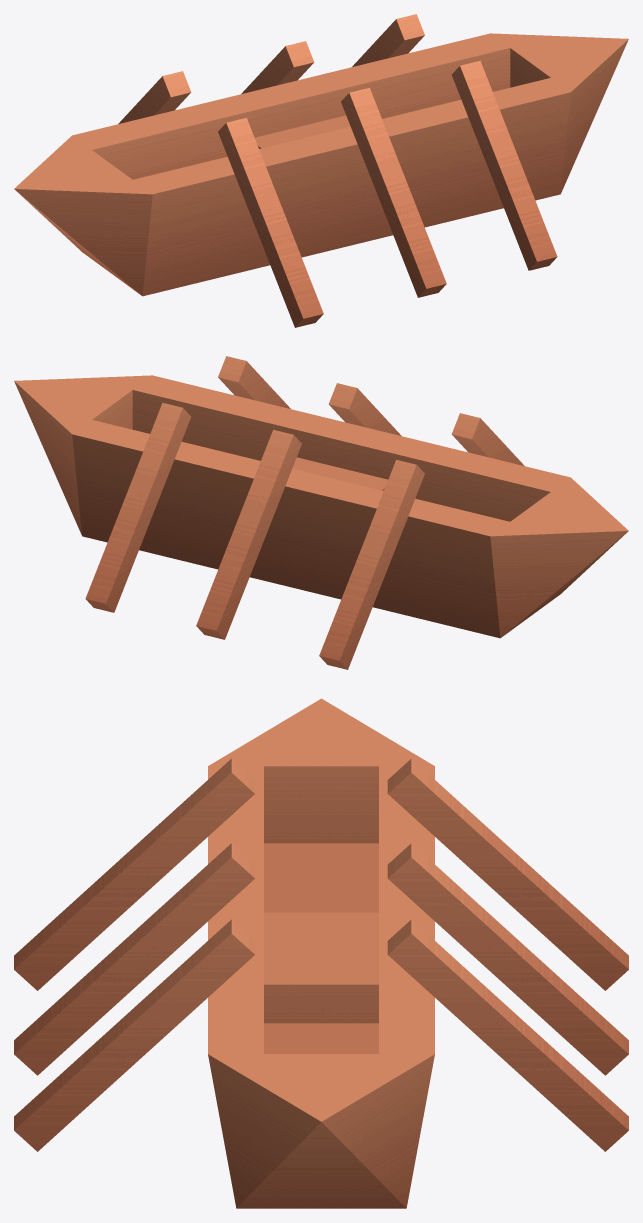
File: unit-ship.glb
3 views of the same model, one above another, from view 1: azimuth 30°, elevation 25°; view 2: azimuth 150°, elevation 25°; view 3: azimuth 270°, elevation 25° (orthographic). The views are drawn at different scales.
Parts seen in each view (by area): view 1: unit-ship; view 2: unit-ship; view 3: unit-ship.
Boxes of the visible parts, bbox=[...] form: unit-ship: bbox=[14, 14, 628, 327]; unit-ship: bbox=[14, 356, 628, 669]; unit-ship: bbox=[14, 698, 628, 1208].
Bounding box in the file's own units: 6.45 × 1.55 × 3.96.
1 material, 1 textured.
